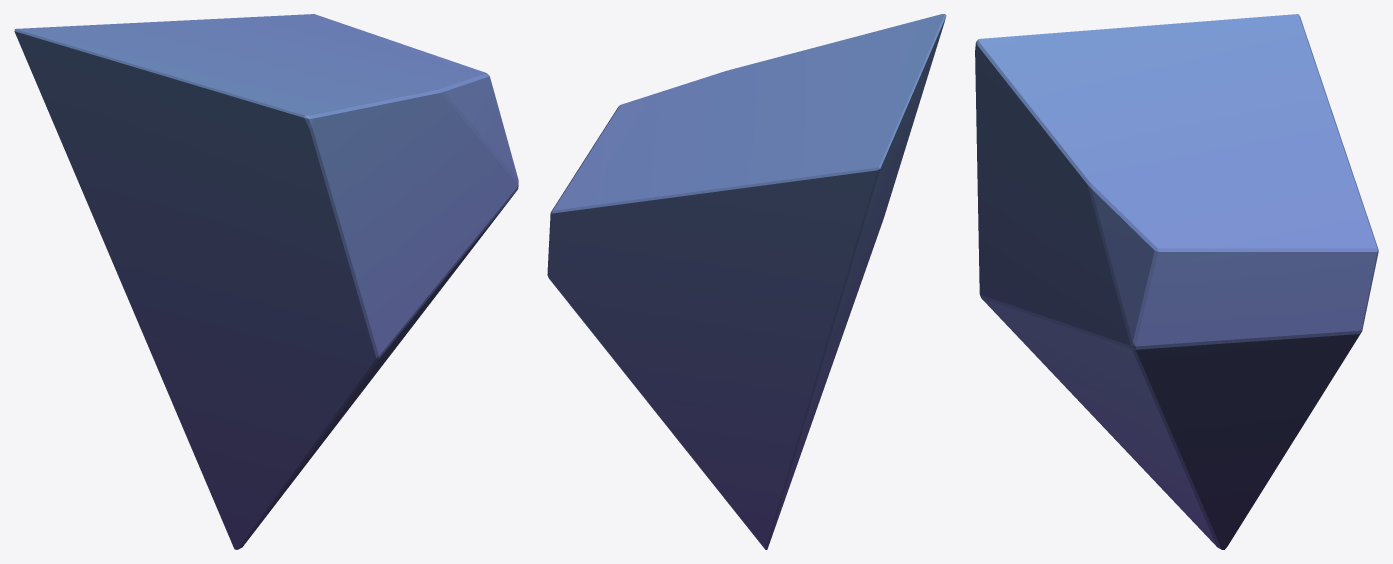
File: cristal_estilhaco_6.fbx
3 views of the same model, side by side, from view 1: azimuth 30°, elevation 25°; view 2: azimuth 150°, elevation 25°; view 3: azimuth 270°, elevation 25° (orthographic). The views are drawn at different scales.
Parts seen in each view (by area): view 1: cristal_estilhaco_6; view 2: cristal_estilhaco_6; view 3: cristal_estilhaco_6.
Boxes of the visible parts, <box> form: cristal_estilhaco_6: <box>14,14,518,549</box>; cristal_estilhaco_6: <box>547,14,946,549</box>; cristal_estilhaco_6: <box>975,14,1378,549</box>.
Bounding box in the file's own units: 3.46 × 4.47 × 3.41.
